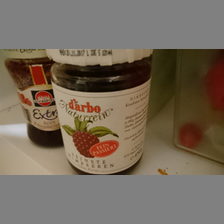jam: (45, 49, 155, 175), (3, 50, 63, 148)
